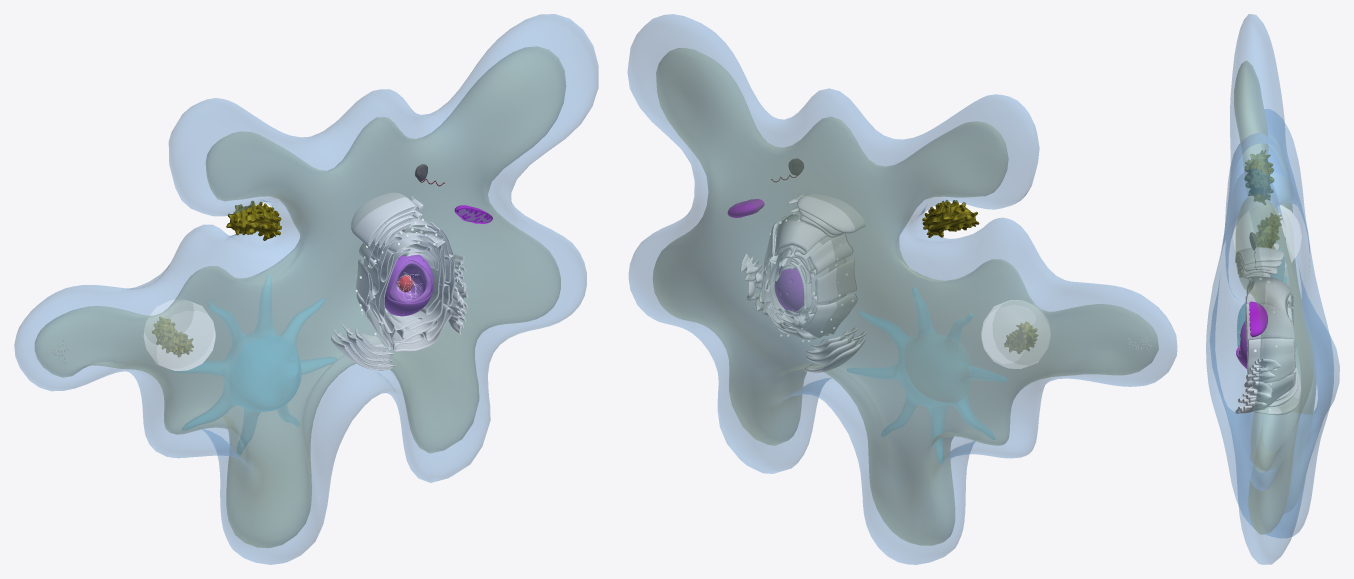
The model's file is optimized_amip.glb.
The picture shows the model from 3 angles, left to right: view 1: azimuth 30°, elevation 25°; view 2: azimuth 150°, elevation 25°; view 3: azimuth 270°, elevation 25°; orthographic projection. The views are drawn at different scales.
Visible parts, largest first — view 1: amip, amip1, kontraklit_koful, Amip_GER, Besin_kofulu, Amip_golgi2, Amip_golgi, Besin_parcasi, Amip_Nukleoplazma, Amip_cekirdek_zari, Amip_RER, Besin_parcasi2; view 2: amip, amip1, Amip_GER, kontraklit_koful, Besin_kofulu, Amip_golgi2, Amip_golgi, Besin_parcasi, Amip_cekirdek_zari, Amip_RER, Besin_parcasi2; view 3: amip, amip1, Amip_GER, Amip_RER, Amip_golgi2, Besin_parcasi, Besin_kofulu, Amip_golgi, Besin_parcasi2, Mitokondri_dis_zar, kontraklit_koful, Amip_cekirdek_zari.
Boxes of the visible parts, x1,y1,x2,y2 form: amip: [14, 14, 598, 564]; amip1: [35, 46, 565, 547]; kontraklit_koful: [171, 275, 336, 454]; Amip_GER: [356, 218, 455, 351]; Besin_kofulu: [144, 300, 215, 370]; Amip_golgi2: [351, 192, 423, 248]; Amip_golgi: [331, 323, 394, 370]; Besin_parcasi: [226, 201, 281, 240]; Amip_Nukleoplazma: [388, 256, 431, 303]; Amip_cekirdek_zari: [384, 254, 433, 316]; Amip_RER: [448, 254, 467, 334]; Besin_parcasi2: [152, 316, 193, 357]; amip: [627, 14, 1177, 564]; amip1: [653, 48, 1158, 545]; Amip_GER: [761, 214, 857, 339]; kontraklit_koful: [847, 287, 1007, 463]; Besin_kofulu: [981, 300, 1049, 368]; Amip_golgi2: [788, 193, 865, 237]; Amip_golgi: [804, 327, 867, 373]; Besin_parcasi: [922, 200, 979, 237]; Amip_cekirdek_zari: [774, 266, 804, 315]; Amip_RER: [740, 254, 769, 314]; Besin_parcasi2: [1004, 321, 1038, 353]; amip: [1206, 14, 1339, 564]; amip1: [1234, 61, 1316, 534]; Amip_GER: [1245, 277, 1296, 410]; Amip_RER: [1235, 358, 1280, 413]; Amip_golgi2: [1235, 247, 1283, 278]; Besin_parcasi: [1244, 150, 1274, 204]; Besin_kofulu: [1233, 205, 1301, 266]; Amip_golgi: [1255, 367, 1300, 415]; Besin_parcasi2: [1255, 213, 1282, 248]; Mitokondri_dis_zar: [1250, 301, 1267, 337]; kontraklit_koful: [1237, 237, 1296, 350]; Amip_cekirdek_zari: [1236, 320, 1247, 368].
Size of what is drawn, in the model's own units: 3 by 2.46 by 0.6218.
18 materials, 3 textured.
